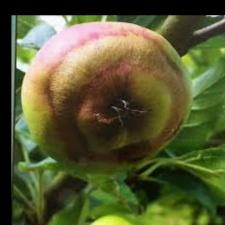rotten apple: (17, 20, 194, 174)
